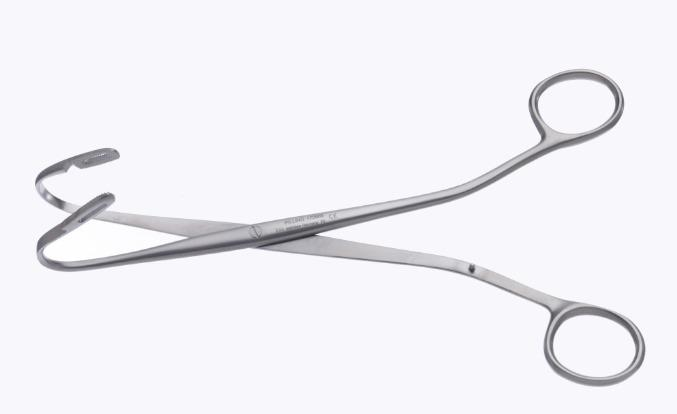Randall Forceps: (31, 56, 651, 388)
